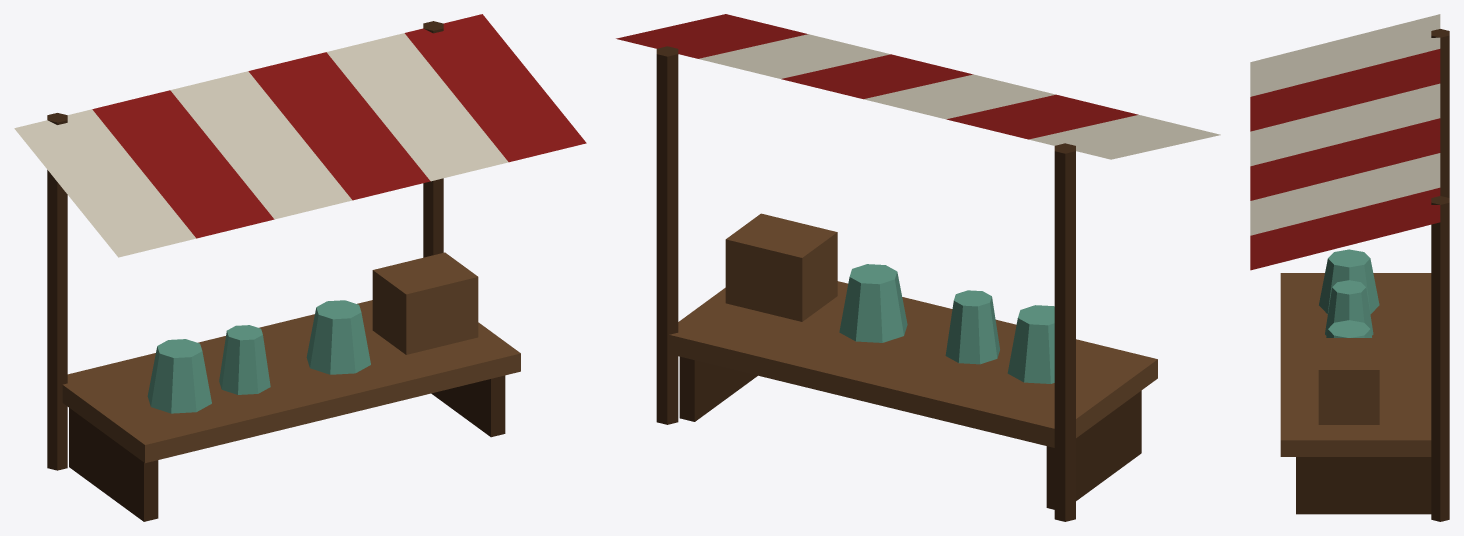
Rendered from market-stall.glb.
The picture shows the model from 3 angles, left to right: view 1: azimuth 30°, elevation 25°; view 2: azimuth 150°, elevation 25°; view 3: azimuth 270°, elevation 25°; orthographic projection. The views are drawn at different scales.
Visible parts, largest first — view 1: market-stall; view 2: market-stall; view 3: market-stall.
Boxes of the visible parts, bbox=[...] form: market-stall: bbox=[14, 14, 586, 521]; market-stall: bbox=[616, 14, 1220, 521]; market-stall: bbox=[1250, 14, 1449, 521].
Bounding box in the file's own units: 3.24 × 2.3 × 1.31.
